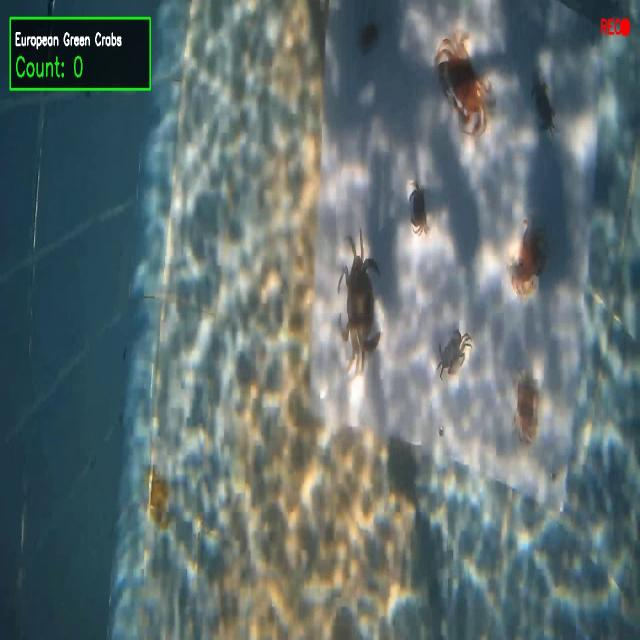European_Green_Crab: (329, 224, 391, 383), (430, 320, 476, 390), (528, 70, 560, 138)
